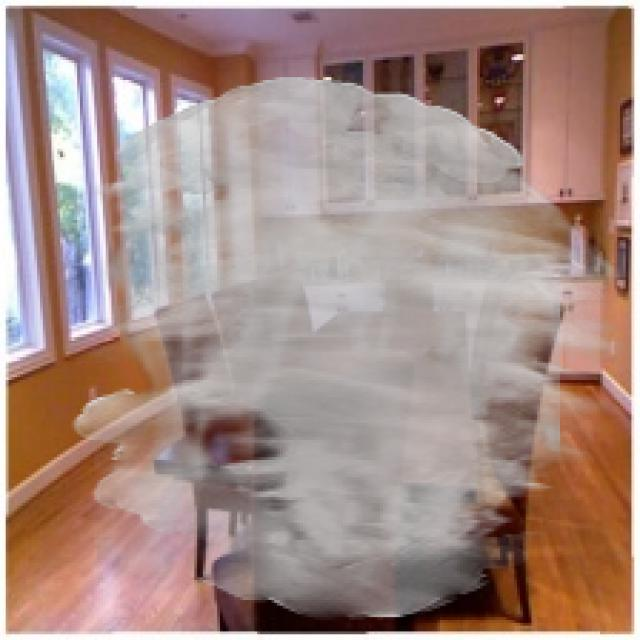smoke: (71, 77, 626, 620)
